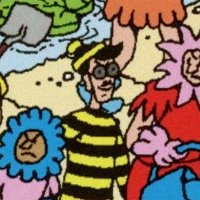odlaw: (85, 44, 117, 102)
